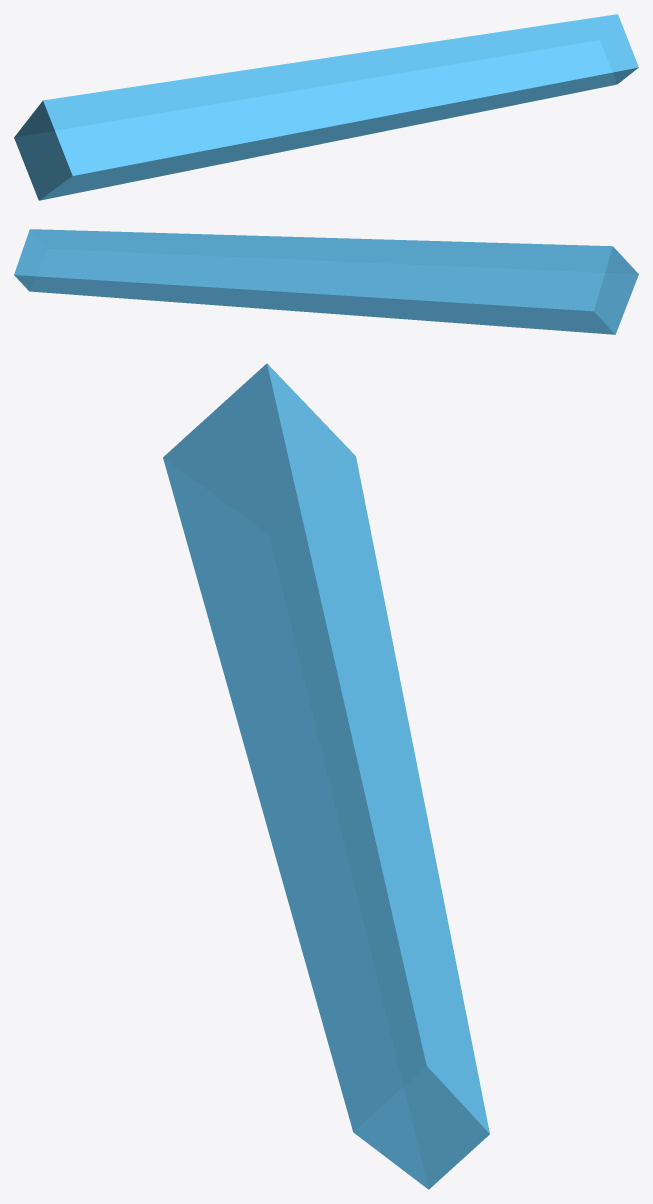
The model's file is Event_420107950_HErechit_12.fbx.
The picture shows the model from 3 angles, top to bottom: view 1: azimuth 30°, elevation 25°; view 2: azimuth 150°, elevation 25°; view 3: azimuth 270°, elevation 25°; orthographic projection. The views are drawn at different scales.
Visible parts, largest first — view 1: Model; view 2: Model; view 3: Model.
Boxes of the visible parts, x1=… form: Model: x1=14, y1=14, x2=638, y2=200; Model: x1=14, y1=229, x2=638, y2=334; Model: x1=163, y1=363, x2=489, y2=1189.
Bounding box in the file's own units: 4.27 × 1.11 × 1.11.
